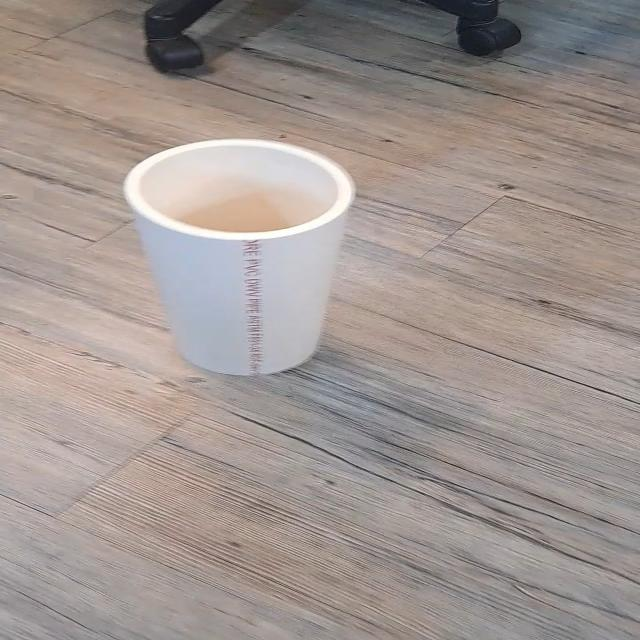CORAL: (122, 138, 367, 388)
